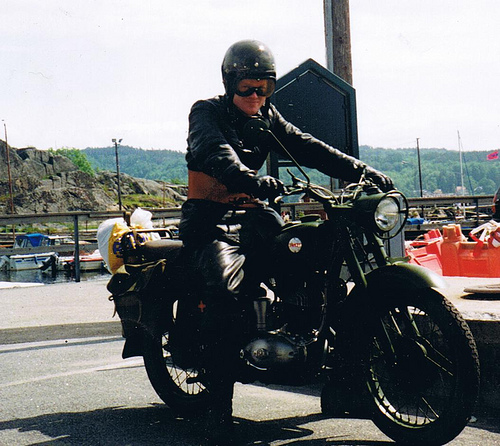helmet: (216, 42, 275, 78)
